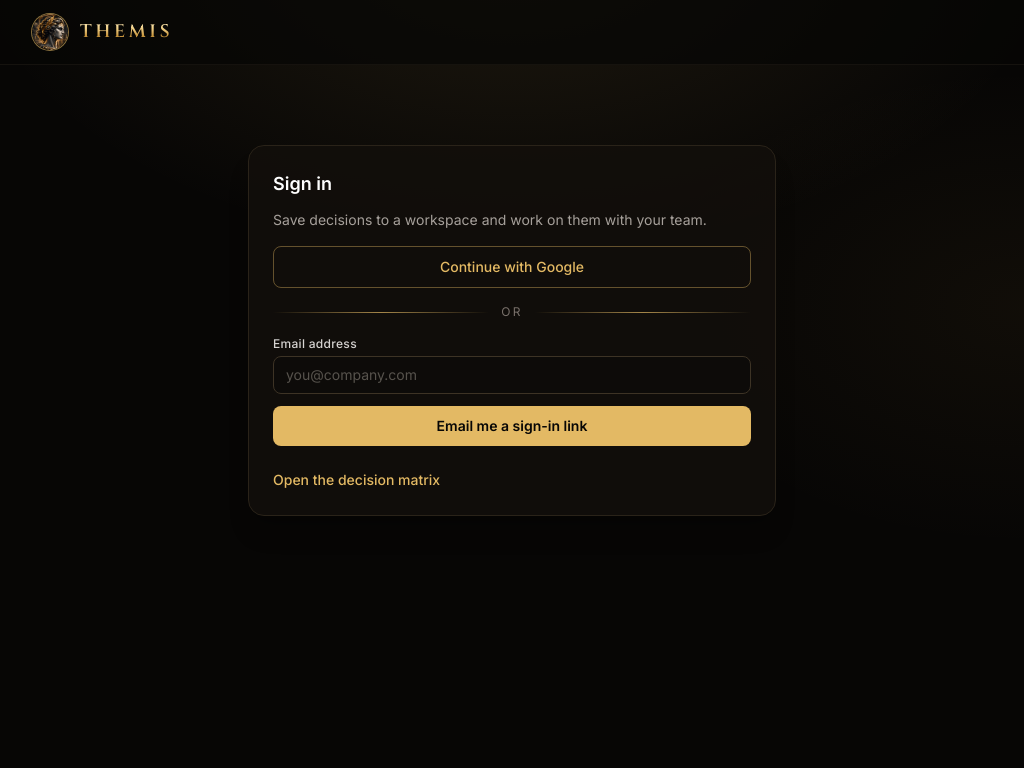
/signin (configured) › Google: a provider error renders a message and does not redirect
The width and height of the screenshot is (1024, 768).
Click the button "Continue with Google" at (512,267), box [273,246,751,288]
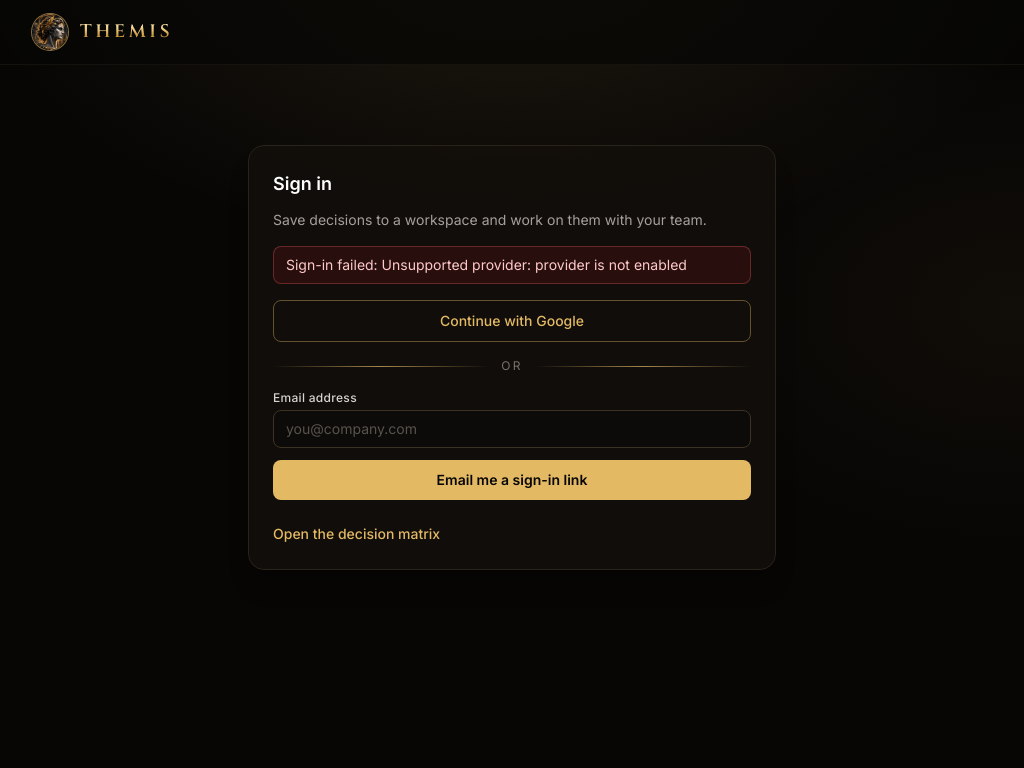
Expected: the button "Continue with Google" is enabled, [273,300,751,342]
Result: the message shows "provider is not enabled" at [286,256,687,273]
